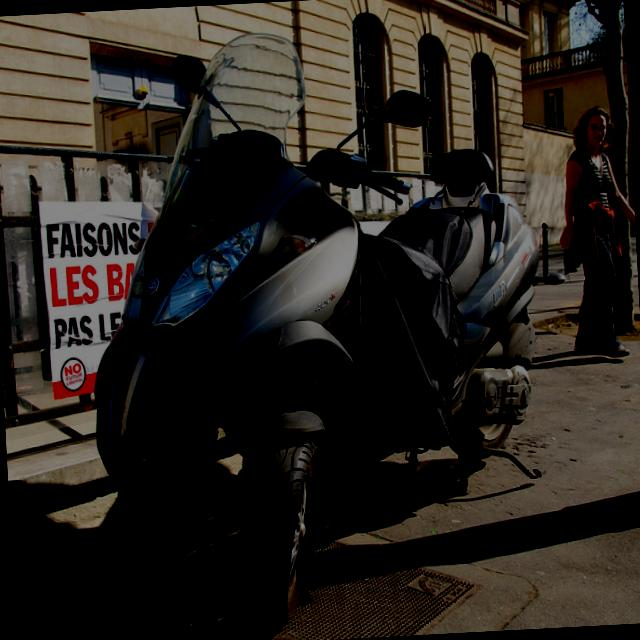Vehicle: (78, 18, 571, 638)
